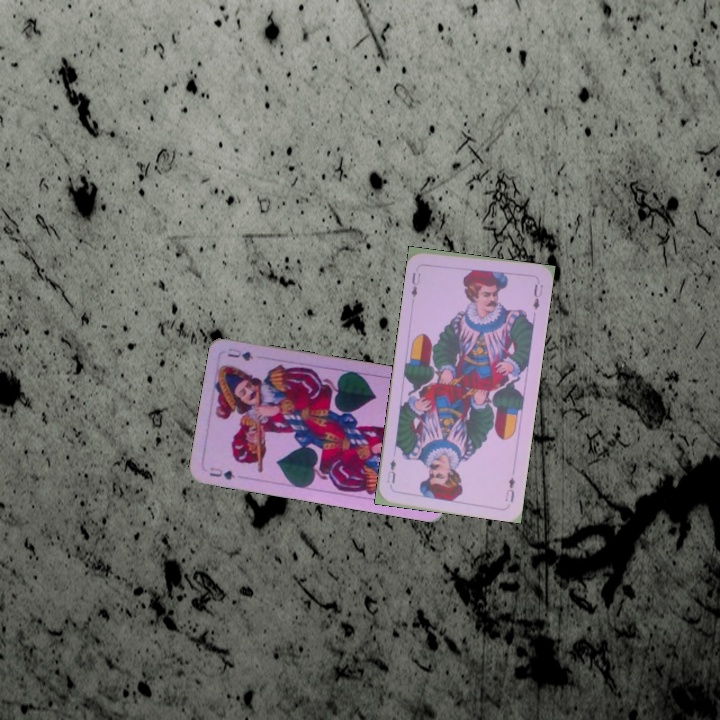EU: (407, 268, 423, 300), (501, 473, 517, 505)
GU: (205, 463, 237, 483)
